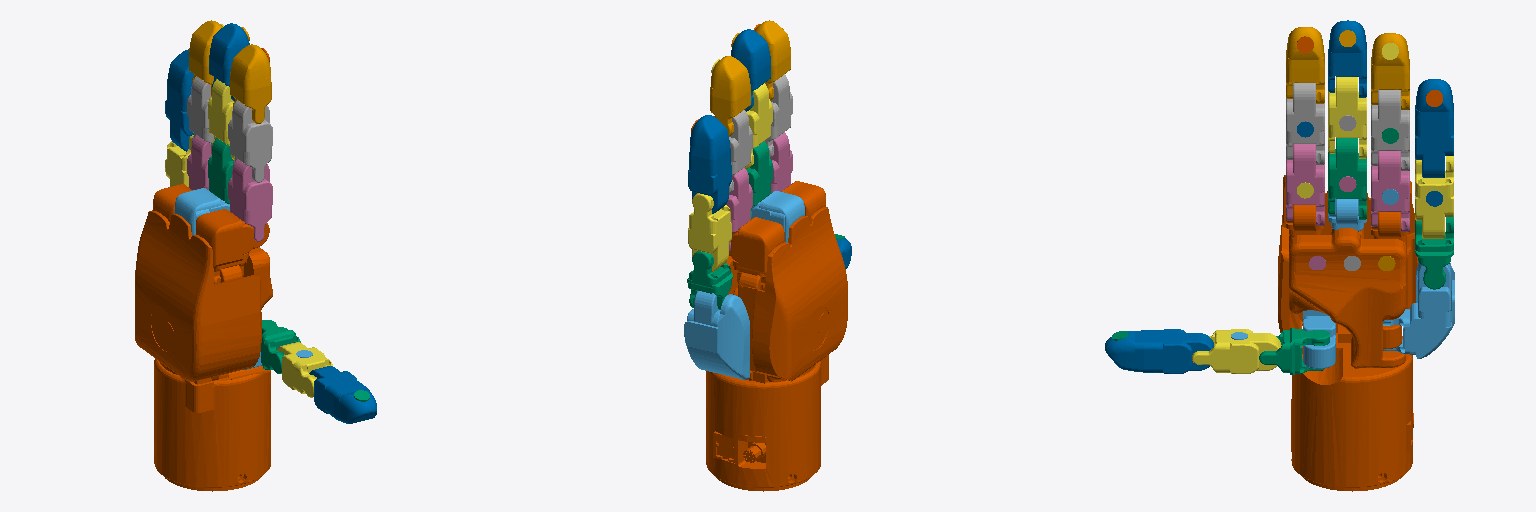
--- What the picture shows (computed from the rendered views, not written in the file) ---
The picture shows the robot from 3 angles, left to right: view 1: azimuth 30°, elevation 25°; view 2: azimuth 150°, elevation 25°; view 3: azimuth 270°, elevation 25°; orthographic projection.
Robot: tesollo_left — 38 links, 37 joints (20 revolute, 17 fixed); root link tesollo_left_ll_dg_mount; default pose: all joints at 0.
Links seen in each view (by area): view 1: tesollo_left_ll_dg_mount, tesollo_left_ll_dg_2_1, tesollo_left_ll_dg_1_4, tesollo_left_ll_dg_2_3, tesollo_left_ll_dg_2_4, tesollo_left_ll_dg_2_2, tesollo_left_ll_dg_5_4, tesollo_left_ll_dg_1_3, tesollo_left_ll_dg_3_4, tesollo_left_ll_dg_4_4, tesollo_left_ll_dg_3_1, tesollo_left_ll_dg_1_2 (+6 smaller); view 2: tesollo_left_ll_dg_mount, tesollo_left_ll_dg_5_1, tesollo_left_ll_dg_5_4, tesollo_left_ll_dg_4_1, tesollo_left_ll_dg_5_3, tesollo_left_ll_dg_4_4, tesollo_left_ll_dg_3_4, tesollo_left_ll_dg_5_2, tesollo_left_ll_dg_3_1, tesollo_left_ll_dg_2_4, tesollo_left_ll_dg_2_3, tesollo_left_ll_dg_3_3 (+5 smaller); view 3: tesollo_left_ll_dg_mount, tesollo_left_ll_dg_1_4, tesollo_left_ll_dg_5_1, tesollo_left_ll_dg_5_4, tesollo_left_ll_dg_1_3, tesollo_left_ll_dg_2_3, tesollo_left_ll_dg_2_2, tesollo_left_ll_dg_4_3, tesollo_left_ll_dg_4_2, tesollo_left_ll_dg_5_3, tesollo_left_ll_dg_3_2, tesollo_left_ll_dg_3_3 (+9 smaller).
Link boxes in pixels (x1,y1,x2,y2): tesollo_left_ll_dg_mount: [135, 210, 272, 491]; tesollo_left_ll_dg_2_1: [196, 209, 269, 283]; tesollo_left_ll_dg_1_4: [309, 366, 376, 423]; tesollo_left_ll_dg_2_3: [228, 100, 272, 182]; tesollo_left_ll_dg_2_4: [230, 44, 271, 123]; tesollo_left_ll_dg_2_2: [228, 159, 272, 241]; tesollo_left_ll_dg_5_4: [165, 49, 193, 151]; tesollo_left_ll_dg_1_3: [277, 342, 332, 397]; tesollo_left_ll_dg_3_4: [209, 23, 249, 100]; tesollo_left_ll_dg_4_4: [189, 20, 222, 96]; tesollo_left_ll_dg_3_1: [174, 188, 229, 234]; tesollo_left_ll_dg_1_2: [261, 320, 300, 373]; tesollo_left_ll_dg_mount: [706, 207, 847, 491]; tesollo_left_ll_dg_5_1: [684, 291, 749, 379]; tesollo_left_ll_dg_5_4: [688, 115, 731, 213]; tesollo_left_ll_dg_4_1: [729, 217, 784, 290]; tesollo_left_ll_dg_5_3: [688, 193, 731, 271]; tesollo_left_ll_dg_4_4: [710, 56, 750, 135]; tesollo_left_ll_dg_3_4: [731, 29, 770, 111]; tesollo_left_ll_dg_5_2: [687, 251, 732, 309]; tesollo_left_ll_dg_3_1: [752, 191, 804, 242]; tesollo_left_ll_dg_2_4: [755, 20, 790, 99]; tesollo_left_ll_dg_2_3: [765, 74, 792, 157]; tesollo_left_ll_dg_3_3: [744, 83, 772, 168]; tesollo_left_ll_dg_mount: [1278, 191, 1418, 491]; tesollo_left_ll_dg_1_4: [1105, 329, 1213, 373]; tesollo_left_ll_dg_5_1: [1383, 262, 1454, 358]; tesollo_left_ll_dg_5_4: [1415, 79, 1453, 177]; tesollo_left_ll_dg_1_3: [1192, 329, 1281, 373]; tesollo_left_ll_dg_2_3: [1286, 82, 1324, 164]; tesollo_left_ll_dg_2_2: [1286, 143, 1324, 225]; tesollo_left_ll_dg_4_3: [1371, 89, 1409, 170]; tesollo_left_ll_dg_4_2: [1371, 150, 1409, 231]; tesollo_left_ll_dg_5_3: [1415, 156, 1453, 238]; tesollo_left_ll_dg_3_2: [1328, 138, 1366, 219]; tesollo_left_ll_dg_3_3: [1328, 77, 1366, 158].
Bounding box of the posed robot: 0.0735 × 0.2022 × 0.2911 m (x, y, z).
28 mesh visuals loaded from 28 distinct referenced files (28 OBJ).

robot.urdf — tesollo_left:
<?xml version='1.0' encoding='UTF-8'?>
<robot name="tesollo_left">
  <joint name="lj_dg_1_1" type="revolute">
    <origin xyz="-0.0162 -0.019 0.0866" rpy="0. 0. 0." />
    <parent link="tesollo_left_ll_dg_mount" />
    <child link="tesollo_left_ll_dg_1_1" />
    <axis xyz="1. 0. 0." />
    <limit lower="-0.8901179" upper="0.3839724" effort="7.5" velocity="3.1415927" />
  </joint>
  <joint name="lj_dg_1_2" type="revolute">
    <origin xyz="0.04195 0. 0. " rpy="0. 0. 0." />
    <parent link="tesollo_left_ll_dg_1_1" />
    <child link="tesollo_left_ll_dg_1_2" />
    <axis xyz="0. 0. 1." />
    <limit lower="0." upper="3.1415927" effort="7.5" velocity="3.1415927" />
  </joint>
  <joint name="lj_dg_1_3" type="revolute">
    <origin xyz="0. -0.031 0. " rpy="0. 0. 0." />
    <parent link="tesollo_left_ll_dg_1_2" />
    <child link="tesollo_left_ll_dg_1_3" />
    <axis xyz="1. 0. 0." />
    <limit lower="-1.5707963" upper="1.5707963" effort="7.5" velocity="3.1415927" />
  </joint>
  <joint name="lj_dg_1_4" type="revolute">
    <origin xyz="0. -0.0388 0. " rpy="0. 0. 0." />
    <parent link="tesollo_left_ll_dg_1_3" />
    <child link="tesollo_left_ll_dg_1_4" />
    <axis xyz="1. 0. 0." />
    <limit lower="-1.5707963" upper="1.5707963" effort="7.5" velocity="3.1415927" />
  </joint>
  <joint name="lj_dg_2_1" type="revolute">
    <origin xyz="-0.0071 -0.027 0.1399" rpy="0. 0. 0." />
    <parent link="tesollo_left_ll_dg_mount" />
    <child link="tesollo_left_ll_dg_2_1" />
    <axis xyz="1. 0. 0." />
    <limit lower="-0.6108652" upper="0.418879" effort="7.5" velocity="3.1415927" />
  </joint>
  <joint name="lj_dg_2_2" type="revolute">
    <origin xyz="0.01765 0. 0.0265 " rpy="0. 0. 0." />
    <parent link="tesollo_left_ll_dg_2_1" />
    <child link="tesollo_left_ll_dg_2_2" />
    <axis xyz="0. 1. 0." />
    <limit lower="0." upper="2.0071286" effort="7.5" velocity="3.1415927" />
  </joint>
  <joint name="lj_dg_2_3" type="revolute">
    <origin xyz="0. 0. 0.0388" rpy="0. 0. 0." />
    <parent link="tesollo_left_ll_dg_2_2" />
    <child link="tesollo_left_ll_dg_2_3" />
    <axis xyz="0. 1. 0." />
    <limit lower="-1.5707963" upper="1.5707963" effort="7.5" velocity="3.1415927" />
  </joint>
  <joint name="lj_dg_2_4" type="revolute">
    <origin xyz="0. 0. 0.0388" rpy="0. 0. 0." />
    <parent link="tesollo_left_ll_dg_2_3" />
    <child link="tesollo_left_ll_dg_2_4" />
    <axis xyz="0. 1. 0." />
    <limit lower="-1.5707963" upper="1.5707963" effort="7.5" velocity="3.1415927" />
  </joint>
  <joint name="lj_dg_3_1" type="revolute">
    <origin xyz="-0.0071 -0.0025 0.1439" rpy="0. 0. 0." />
    <parent link="tesollo_left_ll_dg_mount" />
    <child link="tesollo_left_ll_dg_3_1" />
    <axis xyz="1. 0. 0." />
    <limit lower="-0.6108652" upper="0.6108652" effort="7.5" velocity="3.1415927" />
  </joint>
  <joint name="lj_dg_3_2" type="revolute">
    <origin xyz="0.01765 0. 0.0265 " rpy="0. 0. 0." />
    <parent link="tesollo_left_ll_dg_3_1" />
    <child link="tesollo_left_ll_dg_3_2" />
    <axis xyz="0. 1. 0." />
    <limit lower="0." upper="1.9547686" effort="7.5" velocity="3.1415927" />
  </joint>
  <joint name="lj_dg_3_3" type="revolute">
    <origin xyz="0. 0. 0.0388" rpy="0. 0. 0." />
    <parent link="tesollo_left_ll_dg_3_2" />
    <child link="tesollo_left_ll_dg_3_3" />
    <axis xyz="0. 1. 0." />
    <limit lower="-1.5707963" upper="1.5707963" effort="7.5" velocity="3.1415927" />
  </joint>
  <joint name="lj_dg_3_4" type="revolute">
    <origin xyz="0. 0. 0.0388" rpy="0. 0. 0." />
    <parent link="tesollo_left_ll_dg_3_3" />
    <child link="tesollo_left_ll_dg_3_4" />
    <axis xyz="0. 1. 0." />
    <limit lower="-1.5707963" upper="1.5707963" effort="7.5" velocity="3.1415927" />
  </joint>
  <joint name="lj_dg_4_1" type="revolute">
    <origin xyz="-0.0071 0.022 0.1359" rpy="0. 0. 0." />
    <parent link="tesollo_left_ll_dg_mount" />
    <child link="tesollo_left_ll_dg_4_1" />
    <axis xyz="1. 0. 0." />
    <limit lower="-0.418879" upper="0.6108652" effort="7.5" velocity="3.1415927" />
  </joint>
  <joint name="lj_dg_4_2" type="revolute">
    <origin xyz="0.01765 0. 0.0265 " rpy="0. 0. 0." />
    <parent link="tesollo_left_ll_dg_4_1" />
    <child link="tesollo_left_ll_dg_4_2" />
    <axis xyz="0. 1. 0." />
    <limit lower="0." upper="1.9024088" effort="7.5" velocity="3.1415927" />
  </joint>
  <joint name="lj_dg_4_3" type="revolute">
    <origin xyz="0. 0. 0.0388" rpy="0. 0. 0." />
    <parent link="tesollo_left_ll_dg_4_2" />
    <child link="tesollo_left_ll_dg_4_3" />
    <axis xyz="0. 1. 0." />
    <limit lower="-1.5707963" upper="1.5707963" effort="7.5" velocity="3.1415927" />
  </joint>
  <joint name="lj_dg_4_4" type="revolute">
    <origin xyz="0. 0. 0.0388" rpy="0. 0. 0." />
    <parent link="tesollo_left_ll_dg_4_3" />
    <child link="tesollo_left_ll_dg_4_4" />
    <axis xyz="0. 1. 0." />
    <limit lower="-1.5707963" upper="1.5707963" effort="7.5" velocity="3.1415927" />
  </joint>
  <joint name="lj_dg_5_1" type="revolute">
    <origin xyz="0.0103 0.0195 0.092 " rpy="0. 0. 0." />
    <parent link="tesollo_left_ll_dg_mount" />
    <child link="tesollo_left_ll_dg_5_1" />
    <axis xyz="0. 0. 1." />
    <limit lower="-1.0471976" upper="0.0174533" effort="7.5" velocity="3.1415927" />
  </joint>
  <joint name="lj_dg_5_2" type="revolute">
    <origin xyz="0. 0.028 0.0381" rpy="0. 0. 0." />
    <parent link="tesollo_left_ll_dg_5_1" />
    <child link="tesollo_left_ll_dg_5_2" />
    <axis xyz="1. 0. 0." />
    <limit lower="-0.6108652" upper="0.418879" effort="7.5" velocity="3.1415927" />
  </joint>
  <joint name="lj_dg_5_3" type="revolute">
    <origin xyz="0. 0. 0.031" rpy="0. 0. 0." />
    <parent link="tesollo_left_ll_dg_5_2" />
    <child link="tesollo_left_ll_dg_5_3" />
    <axis xyz="0. 1. 0." />
    <limit lower="-1.5707963" upper="1.5707963" effort="7.5" velocity="3.1415927" />
  </joint>
  <joint name="lj_dg_5_4" type="revolute">
    <origin xyz="0. 0. 0.0388" rpy="0. 0. 0." />
    <parent link="tesollo_left_ll_dg_5_3" />
    <child link="tesollo_left_ll_dg_5_4" />
    <axis xyz="0. 1. 0." />
    <limit lower="-1.5707963" upper="1.5707963" effort="7.5" velocity="3.1415927" />
  </joint>
  <joint name="ll_dg_ee_joint" type="fixed">
    <origin xyz="0.023 0. 0.13" rpy="1.5707963 0. 1.5707963" />
    <parent link="tesollo_left_ll_dg_mount" />
    <child link="ll_dg_ee" />
  </joint>
  <link name="ll_dg_ee">
    <inertial>
      <origin xyz="0. 0. 0." rpy="0. 0. 0." />
      <mass value="0.001" />
      <inertia ixx="1e-6" ixy="0." ixz="0." iyy="1e-6" iyz="0." izz="1e-6" />
    </inertial>
    <visual>
      <origin xyz="0. 0. 0." rpy="0. 0. 0." />
      <geometry>
        <sphere radius="0.0001" />
      </geometry>
    </visual>
    <collision>
      <origin xyz="0. 0. 0." rpy="0. 0. 0." />
      <geometry>
        <sphere radius="0.0001" />
      </geometry>
    </collision>
  </link>
  <link name="tesollo_left_ll_dg_1_1">
    <inertial>
      <origin xyz="0.021473 0.0000031 0.0028146" rpy="0. 0. 0." />
      <mass value="0.045" />
      <inertia ixx="0.0000043" ixy="0." ixz="0.0000029" iyy="0.0000137" iyz="-0." izz="0.0000122" />
    </inertial>
    <visual>
      <origin xyz="0. 0. 0." rpy="1.5707872 0. 0. " />
      <geometry>
        <mesh filename="meshes/tesollo_left_ll_dg_1_1_visuals_ll_dg_1_1_mesh.obj" scale="1. 1. 1." />
      </geometry>
    </visual>
    <collision>
      <origin xyz="0. 0. 0." rpy="1.5707872 0. 0." />
      <geometry>
        <mesh filename="meshes/ll_dg_1_1_c_mesh.obj" scale="1. 1. 1." />
      </geometry>
    </collision>
  </link>
  <link name="tesollo_left_ll_dg_1_2">
    <inertial>
      <origin xyz="-0.0005563 -0.0155 0.0005563" rpy="0. 0. 0." />
      <mass value="0.025" />
      <inertia ixx="0.000002" ixy="-0.0000002" ixz="-0." iyy="0.0000015" iyz="-0.0000002" izz="0.000002" />
    </inertial>
    <visual>
      <origin xyz="0. 0. 0." rpy="1.5707872 0. 0. " />
      <geometry>
        <mesh filename="meshes/tesollo_left_ll_dg_1_2_visuals_ll_dg_1_2_mesh.obj" scale="1. 1. 1." />
      </geometry>
    </visual>
    <collision>
      <origin xyz="0. 0. 0." rpy="1.5707872 0. 0." />
      <geometry>
        <mesh filename="meshes/ll_dg_1_2_c_mesh.obj" scale="1. 1. 1." />
      </geometry>
    </collision>
  </link>
  <link name="tesollo_left_ll_dg_1_3">
    <inertial>
      <origin xyz="-0.000023 -0.014842 0.0000047" rpy="0. 0. 0." />
      <mass value="0.045" />
      <inertia ixx="0.000006" ixy="-0.0000004" ixz="0." iyy="0.0000025" iyz="0." izz="0.0000064" />
    </inertial>
    <visual>
      <origin xyz="0. 0. 0." rpy="1.5707872 0. 0. " />
      <geometry>
        <mesh filename="meshes/tesollo_left_ll_dg_1_3_visuals_ll_dg_1_3_mesh.obj" scale="1. 1. 1." />
      </geometry>
    </visual>
    <collision>
      <origin xyz="0. 0. 0." rpy="1.5707872 0. 0." />
      <geometry>
        <mesh filename="meshes/ll_dg_1_3_c_mesh.obj" scale="1. 1. 1." />
      </geometry>
    </collision>
  </link>
  <link name="tesollo_left_ll_dg_1_4">
    <inertial>
      <origin xyz="0.0001843 -0.0212612 0.0000518" rpy="0. 0. 0." />
      <mass value="0.05" />
      <inertia ixx="0.0000125" ixy="-0.0000002" ixz="0." iyy="0.0000033" iyz="0.0000001" izz="0.0000129" />
    </inertial>
    <visual>
      <origin xyz="0. 0. 0." rpy="1.5707872 0. 0. " />
      <geometry>
        <mesh filename="meshes/tesollo_left_ll_dg_1_4_visuals_ll_dg_1_4_mesh.obj" scale="1. 1. 1." />
      </geometry>
    </visual>
    <visual>
      <origin xyz="0. -0.0363 0. " rpy="1.5707872 0. 0. " />
      <geometry>
        <mesh filename="meshes/tesollo_left_ll_dg_1_4_visuals_ll_dg_1_tip_mesh.obj" scale="1. 1. 1." />
      </geometry>
    </visual>
    <collision>
      <origin xyz="0. 0. 0." rpy="1.5707872 0. 0." />
      <geometry>
        <mesh filename="meshes/ll_dg_1_4_c_mesh.obj" scale="1. 1. 1." />
      </geometry>
    </collision>
    <collision>
      <origin xyz="0. -0.0363 0. " rpy="1.5707872 0. 0." />
      <geometry>
        <mesh filename="meshes/ll_dg_1_tip_c_mesh.obj" scale="1. 1. 1." />
      </geometry>
    </collision>
  </link>
  <link name="tesollo_left_ll_dg_2_1">
    <inertial>
      <origin xyz="0.0010606 -0.0005857 0.023499 " rpy="0. 0. 0." />
      <mass value="0.045" />
      <inertia ixx="0.0000066" ixy="0.0000002" ixz="-0.0000012" iyy="0.0000095" iyz="-0." izz="0.0000071" />
    </inertial>
    <visual>
      <origin xyz="0. 0. 0." rpy="1.5707872 0. 0. " />
      <geometry>
        <mesh filename="meshes/tesollo_left_ll_dg_2_1_visuals_ll_dg_2_1_mesh.obj" scale="1. 1. 1." />
      </geometry>
    </visual>
    <collision>
      <origin xyz="0. 0. 0." rpy="1.5707872 0. 0." />
      <geometry>
        <mesh filename="meshes/ll_dg_2_1_c_mesh.obj" scale="1. 1. 1." />
      </geometry>
    </collision>
  </link>
  <link name="tesollo_left_ll_dg_2_2">
    <inertial>
      <origin xyz="-0.0000047 0.000023 0.023958 " rpy="0. 0. 0." />
      <mass value="0.045" />
      <inertia ixx="0.0000064" ixy="0." ixz="-0." iyy="0.000006" iyz="0.0000004" izz="0.0000025" />
    </inertial>
    <visual>
      <origin xyz="0. 0. 0." rpy="1.5707872 0. 0. " />
      <geometry>
        <mesh filename="meshes/tesollo_left_ll_dg_2_2_visuals_ll_dg_2_2_mesh.obj" scale="1. 1. 1." />
      </geometry>
    </visual>
    <collision>
      <origin xyz="0. 0. 0." rpy="1.5707872 0. 0." />
      <geometry>
        <mesh filename="meshes/ll_dg_2_2_c_mesh.obj" scale="1. 1. 1." />
      </geometry>
    </collision>
  </link>
  <link name="tesollo_left_ll_dg_2_3">
    <inertial>
      <origin xyz="-0.0000047 0.000023 0.023958 " rpy="0. 0. 0." />
      <mass value="0.045" />
      <inertia ixx="0.0000064" ixy="0." ixz="-0." iyy="0.000006" iyz="0.0000004" izz="0.0000025" />
    </inertial>
    <visual>
      <origin xyz="0. 0. 0." rpy="1.5707872 0. 0. " />
      <geometry>
        <mesh filename="meshes/tesollo_left_ll_dg_2_3_visuals_ll_dg_2_3_mesh.obj" scale="1. 1. 1." />
      </geometry>
    </visual>
    <collision>
      <origin xyz="0. 0. 0." rpy="1.5707872 0. 0." />
      <geometry>
        <mesh filename="meshes/ll_dg_2_3_c_mesh.obj" scale="1. 1. 1." />
      </geometry>
    </collision>
  </link>
  <link name="tesollo_left_ll_dg_2_4">
    <inertial>
      <origin xyz="0.0000443 0.0003587 0.0203112" rpy="0. 0. 0." />
      <mass value="0.03" />
      <inertia ixx="0.0000041" ixy="0." ixz="-0.0000001" iyy="0.0000036" iyz="0.0000002" izz="0.000002" />
    </inertial>
    <visual>
      <origin xyz="0. 0. 0." rpy="1.5707872 0. 0. " />
      <geometry>
        <mesh filename="meshes/tesollo_left_ll_dg_2_4_visuals_ll_dg_2_4_mesh.obj" scale="1. 1. 1." />
      </geometry>
    </visual>
    <visual>
      <origin xyz="0. 0. 0.0255" rpy="1.5707872 0. 0. " />
      <geometry>
        <mesh filename="meshes/tesollo_left_ll_dg_2_4_visuals_ll_dg_2_tip_mesh.obj" scale="1. 1. 1." />
      </geometry>
    </visual>
    <collision>
      <origin xyz="0. 0. 0." rpy="1.5707872 0. 0." />
      <geometry>
        <mesh filename="meshes/ll_dg_2_4_c_mesh.obj" scale="1. 1. 1." />
      </geometry>
    </collision>
    <collision>
      <origin xyz="0. 0. 0.0255" rpy="1.5707872 0. 0." />
      <geometry>
        <mesh filename="meshes/ll_dg_2_tip_c_mesh.obj" scale="1. 1. 1." />
      </geometry>
    </collision>
  </link>
  <link name="tesollo_left_ll_dg_3_1">
    <inertial>
      <origin xyz="0.0012558 -0.000177 0.023374 " rpy="0. 0. 0." />
      <mass value="0.045" />
      <inertia ixx="0.0000062" ixy="0.0000001" ixz="-0.0000012" iyy="0.0000093" iyz="0." izz="0.0000068" />
    </inertial>
    <visual>
      <origin xyz="0. 0. 0." rpy="1.5707872 0. 0. " />
      <geometry>
        <mesh filename="meshes/tesollo_left_ll_dg_3_1_visuals_ll_dg_3_1_mesh.obj" scale="1. 1. 1." />
      </geometry>
    </visual>
    <collision>
      <origin xyz="0. 0. 0." rpy="1.5707872 0. 0." />
      <geometry>
        <mesh filename="meshes/ll_dg_3_1_c_mesh.obj" scale="1. 1. 1." />
      </geometry>
    </collision>
  </link>
  <link name="tesollo_left_ll_dg_3_2">
    <inertial>
      <origin xyz="-0.0000047 0.000023 0.023958 " rpy="0. 0. 0." />
      <mass value="0.045" />
      <inertia ixx="0.0000064" ixy="0." ixz="-0." iyy="0.000006" iyz="0.0000004" izz="0.0000025" />
    </inertial>
    <visual>
      <origin xyz="0. 0. 0." rpy="1.5707872 0. 0. " />
      <geometry>
        <mesh filename="meshes/tesollo_left_ll_dg_3_2_visuals_ll_dg_3_2_mesh.obj" scale="1. 1. 1." />
      </geometry>
    </visual>
    <collision>
      <origin xyz="0. 0. 0." rpy="1.5707872 0. 0." />
      <geometry>
        <mesh filename="meshes/ll_dg_3_2_c_mesh.obj" scale="1. 1. 1." />
      </geometry>
    </collision>
  </link>
  <link name="tesollo_left_ll_dg_3_3">
    <inertial>
      <origin xyz="-0.0000047 0.000023 0.023958 " rpy="0. 0. 0." />
      <mass value="0.045" />
      <inertia ixx="0.0000064" ixy="0." ixz="-0." iyy="0.000006" iyz="0.0000004" izz="0.0000025" />
    </inertial>
    <visual>
      <origin xyz="0. 0. 0." rpy="1.5707872 0. 0. " />
      <geometry>
        <mesh filename="meshes/tesollo_left_ll_dg_3_3_visuals_ll_dg_3_3_mesh.obj" scale="1. 1. 1." />
      </geometry>
    </visual>
    <collision>
      <origin xyz="0. 0. 0." rpy="1.5707872 0. 0." />
      <geometry>
        <mesh filename="meshes/ll_dg_3_3_c_mesh.obj" scale="1. 1. 1." />
      </geometry>
    </collision>
  </link>
  <link name="tesollo_left_ll_dg_3_4">
    <inertial>
      <origin xyz="0.0000443 0.0003587 0.0203112" rpy="0. 0. 0." />
      <mass value="0.03" />
      <inertia ixx="0.0000041" ixy="0." ixz="-0.0000001" iyy="0.0000036" iyz="0.0000002" izz="0.000002" />
    </inertial>
    <visual>
      <origin xyz="0. 0. 0." rpy="1.5707872 0. 0. " />
      <geometry>
        <mesh filename="meshes/tesollo_left_ll_dg_3_4_visuals_ll_dg_3_4_mesh.obj" scale="1. 1. 1." />
      </geometry>
    </visual>
    <visual>
      <origin xyz="0. 0. 0.0255" rpy="1.5707872 0. 0. " />
      <geometry>
        <mesh filename="meshes/tesollo_left_ll_dg_3_4_visuals_ll_dg_3_tip_mesh.obj" scale="1. 1. 1." />
      </geometry>
    </visual>
    <collision>
      <origin xyz="0. 0. 0." rpy="1.5707872 0. 0." />
      <geometry>
        <mesh filename="meshes/ll_dg_3_4_c_mesh.obj" scale="1. 1. 1." />
      </geometry>
    </collision>
    <collision>
      <origin xyz="0. 0. 0.0255" rpy="1.5707872 0. 0." />
      <geometry>
        <mesh filename="meshes/ll_dg_3_tip_c_mesh.obj" scale="1. 1. 1." />
      </geometry>
    </collision>
  </link>
  <link name="tesollo_left_ll_dg_4_1">
    <inertial>
      <origin xyz="0.001061 0.0002442 0.023499 " rpy="0. 0. 0." />
      <mass value="0.045" />
      <inertia ixx="0.0000066" ixy="0.0000002" ixz="-0.0000012" iyy="0.0000095" iyz="0.0000001" izz="0.0000071" />
    </inertial>
    <visual>
      <origin xyz="0. 0. 0." rpy="1.5707872 0. 0. " />
      <geometry>
        <mesh filename="meshes/tesollo_left_ll_dg_4_1_visuals_ll_dg_4_1_mesh.obj" scale="1. 1. 1." />
      </geometry>
    </visual>
    <collision>
      <origin xyz="0. 0. 0." rpy="1.5707872 0. 0." />
      <geometry>
        <mesh filename="meshes/ll_dg_4_1_c_mesh.obj" scale="1. 1. 1." />
      </geometry>
    </collision>
  </link>
  <link name="tesollo_left_ll_dg_4_2">
    <inertial>
      <origin xyz="-0.0000047 0.000023 0.023958 " rpy="0. 0. 0." />
      <mass value="0.045" />
      <inertia ixx="0.0000064" ixy="0." ixz="-0." iyy="0.000006" iyz="0.0000004" izz="0.0000025" />
    </inertial>
    <visual>
      <origin xyz="0. 0. 0." rpy="1.5707872 0. 0. " />
      <geometry>
        <mesh filename="meshes/tesollo_left_ll_dg_4_2_visuals_ll_dg_4_2_mesh.obj" scale="1. 1. 1." />
      </geometry>
    </visual>
    <collision>
      <origin xyz="0. 0. 0." rpy="1.5707872 0. 0." />
      <geometry>
        <mesh filename="meshes/ll_dg_4_2_c_mesh.obj" scale="1. 1. 1." />
      </geometry>
    </collision>
  </link>
  <link name="tesollo_left_ll_dg_4_3">
    <inertial>
      <origin xyz="-0.0000047 0.000023 0.023958 " rpy="0. 0. 0." />
      <mass value="0.045" />
      <inertia ixx="0.0000064" ixy="0." ixz="-0." iyy="0.000006" iyz="0.0000004" izz="0.0000025" />
    </inertial>
    <visual>
      <origin xyz="0. 0. 0." rpy="1.5707872 0. 0. " />
      <geometry>
        <mesh filename="meshes/tesollo_left_ll_dg_4_3_visuals_ll_dg_4_3_mesh.obj" scale="1. 1. 1." />
      </geometry>
    </visual>
    <collision>
      <origin xyz="0. 0. 0." rpy="1.5707872 0. 0." />
      <geometry>
        <mesh filename="meshes/ll_dg_4_3_c_mesh.obj" scale="1. 1. 1." />
      </geometry>
    </collision>
  </link>
  <link name="tesollo_left_ll_dg_4_4">
    <inertial>
      <origin xyz="0.0000443 0.0003587 0.0203112" rpy="0. 0. 0." />
      <mass value="0.03" />
      <inertia ixx="0.0000041" ixy="0." ixz="-0.0000001" iyy="0.0000036" iyz="0.0000002" izz="0.000002" />
    </inertial>
    <visual>
      <origin xyz="0. 0. 0." rpy="1.5707872 0. 0. " />
      <geometry>
        <mesh filename="meshes/tesollo_left_ll_dg_4_4_visuals_ll_dg_4_4_mesh.obj" scale="1. 1. 1." />
      </geometry>
    </visual>
    <visual>
      <origin xyz="0. 0. 0.0255" rpy="1.5707872 0. 0. " />
      <geometry>
        <mesh filename="meshes/tesollo_left_ll_dg_4_4_visuals_ll_dg_4_tip_mesh.obj" scale="1. 1. 1." />
      </geometry>
    </visual>
    <collision>
      <origin xyz="0. 0. 0." rpy="1.5707872 0. 0." />
      <geometry>
        <mesh filename="meshes/ll_dg_4_4_c_mesh.obj" scale="1. 1. 1." />
      </geometry>
    </collision>
    <collision>
      <origin xyz="0. 0. 0.0255" rpy="1.5707872 0. 0." />
      <geometry>
        <mesh filename="meshes/ll_dg_4_tip_c_mesh.obj" scale="1. 1. 1." />
      </geometry>
    </collision>
  </link>
  <link name="tesollo_left_ll_dg_5_1">
    <inertial>
      <origin xyz="-0.0045287 0.025016 0.014025 " rpy="0. 0. 0." />
      <mass value="0.055" />
      <inertia ixx="0.0000236" ixy="-0.0000002" ixz="0.0000026" iyy="0.0000237" iyz="-0.0000045" izz="0.0000113" />
    </inertial>
    <visual>
      <origin xyz="0. 0. 0." rpy="1.5707872 0. 0. " />
      <geometry>
        <mesh filename="meshes/tesollo_left_ll_dg_5_1_visuals_ll_dg_5_1_mesh.obj" scale="1. 1. 1." />
      </geometry>
    </visual>
    <collision>
      <origin xyz="0. 0. 0." rpy="1.5707872 0. 0." />
      <geometry>
        <mesh filename="meshes/ll_dg_5_1_c_mesh.obj" scale="1. 1. 1." />
      </geometry>
    </collision>
  </link>
  <link name="tesollo_left_ll_dg_5_2">
    <inertial>
      <origin xyz="0.0005563 0.0005563 0.0155 " rpy="0. 0. 0." />
      <mass value="0.025" />
      <inertia ixx="0.000002" ixy="0." ixz="0.0000002" iyy="0.000002" iyz="-0.0000002" izz="0.0000015" />
    </inertial>
    <visual>
      <origin xyz="0. 0. 0." rpy="1.5707872 0. 0. " />
      <geometry>
        <mesh filename="meshes/tesollo_left_ll_dg_5_2_visuals_ll_dg_5_2_mesh.obj" scale="1. 1. 1." />
      </geometry>
    </visual>
    <collision>
      <origin xyz="0. 0. 0." rpy="1.5707872 0. 0." />
      <geometry>
        <mesh filename="meshes/ll_dg_5_2_c_mesh.obj" scale="1. 1. 1." />
      </geometry>
    </collision>
  </link>
  <link name="tesollo_left_ll_dg_5_3">
    <inertial>
      <origin xyz="0.0000047 0.000023 0.014842 " rpy="0. 0. 0." />
      <mass value="0.045" />
      <inertia ixx="0.0000064" ixy="-0." ixz="-0.0000001" iyy="0.000006" iyz="-0.0000004" izz="0.0000025" />
    </inertial>
    <visual>
      <origin xyz="0. 0. 0." rpy="1.5707872 0. 0. " />
      <geometry>
        <mesh filename="meshes/tesollo_left_ll_dg_5_3_visuals_ll_dg_5_3_mesh.obj" scale="1. 1. 1." />
      </geometry>
    </visual>
    <collision>
      <origin xyz="0. 0. 0." rpy="1.5707872 0. 0." />
      <geometry>
        <mesh filename="meshes/ll_dg_5_3_c_mesh.obj" scale="1. 1. 1." />
      </geometry>
    </collision>
  </link>
  <link name="tesollo_left_ll_dg_5_4">
    <inertial>
      <origin xyz="0.0000518 -0.0001843 0.0212612" rpy="0. 0. 0." />
      <mass value="0.05" />
      <inertia ixx="0.0000129" ixy="-0." ixz="-0.0000001" iyy="0.0000125" iyz="-0.0000002" izz="0.0000033" />
    </inertial>
    <visual>
      <origin xyz="0. 0. 0." rpy="1.5707872 0. 0. " />
      <geometry>
        <mesh filename="meshes/tesollo_left_ll_dg_5_4_visuals_ll_dg_5_4_mesh.obj" scale="1. 1. 1." />
      </geometry>
    </visual>
    <visual>
      <origin xyz="0. 0. 0.0363" rpy="1.5707872 0. 0. " />
      <geometry>
        <mesh filename="meshes/tesollo_left_ll_dg_5_4_visuals_ll_dg_5_tip_mesh.obj" scale="1. 1. 1." />
      </geometry>
    </visual>
    <collision>
      <origin xyz="0. 0. 0." rpy="1.5707872 0. 0." />
      <geometry>
        <mesh filename="meshes/ll_dg_5_4_c_mesh.obj" scale="1. 1. 1." />
      </geometry>
    </collision>
    <collision>
      <origin xyz="0. 0. 0.0363" rpy="1.5707872 0. 0." />
      <geometry>
        <mesh filename="meshes/ll_dg_5_tip_c_mesh.obj" scale="1. 1. 1." />
      </geometry>
    </collision>
  </link>
  <link name="tesollo_left_ll_dg_mount">
    <inertial>
      <origin xyz="-0.0039993 -0.0006647 0.0695974" rpy="0. 0. 0." />
      <mass value="0.85" />
      <inertia ixx="0.0023165" ixy="-0.0000139" ixz="0.0001302" iyy="0.0022258" iyz="0.0000629" izz="0.0009267" />
    </inertial>
    <visual>
      <origin xyz="0. 0. 0." rpy="1.5707872 0. 0. " />
      <geometry>
        <mesh filename="meshes/tesollo_left_ll_dg_mount_visuals_ll_dg_mount_mesh.obj" scale="1. 1. 1." />
      </geometry>
    </visual>
    <visual>
      <origin xyz="0. 0. 0.004" rpy="1.5707872 0. 0. " />
      <geometry>
        <mesh filename="meshes/tesollo_left_ll_dg_mount_visuals_ll_dg_base_mesh.obj" scale="1. 1. 1." />
      </geometry>
    </visual>
    <visual>
      <origin xyz="0. 0. 0.0738" rpy="1.5707872 0. 0. " />
      <geometry>
        <mesh filename="meshes/tesollo_left_ll_dg_mount_visuals_ll_dg_palm_mesh.obj" scale="1. 1. 1." />
      </geometry>
    </visual>
    <collision>
      <origin xyz="0. 0. 0." rpy="1.5707872 0. 0." />
      <geometry>
        <mesh filename="meshes/ll_dg_mount_c_mesh.obj" scale="1. 1. 1." />
      </geometry>
    </collision>
    <collision>
      <origin xyz="0. 0. 0.004" rpy="1.5707872 0. 0." />
      <geometry>
        <mesh filename="meshes/ll_dg_base_c_mesh.obj" scale="1. 1. 1." />
      </geometry>
    </collision>
    <collision>
      <origin xyz="0. 0. 0.0738" rpy="1.5707872 0. 0." />
      <geometry>
        <mesh filename="meshes/ll_dg_palm_c_mesh.obj" scale="1. 1. 1." />
      </geometry>
    </collision>
  </link>
  
<!-- Palm Sensor Links -->
  <joint name="tesollo_left_palm_sensor_joint1" type="fixed">
    <origin xyz="0.02 -0.02 0.14" rpy="0 1.5708 0" />
    <parent link="tesollo_left_ll_dg_mount" />
    <child link="tesollo_left_palm_sensor_link1" />
  </joint>
  <link name="tesollo_left_palm_sensor_link1">
    <inertial>
      <mass value="0.001"/>
      <inertia ixx="0.00001" ixy="0" ixz="0" iyy="0.00001" iyz="0" izz="0.00001"/>
    </inertial>
    <visual>
      <geometry>
        <cylinder radius="0.005" length="0.001" />
      </geometry>
    </visual>
    <collision>
      <geometry>
        <cylinder radius="0.005" length="0.001" />
      </geometry>
    </collision>
  </link>

  <joint name="tesollo_left_palm_sensor_joint2" type="fixed">
    <origin xyz="0.02 0.0 0.14" rpy="0 1.5708 0" />
    <parent link="tesollo_left_ll_dg_mount" />
    <child link="tesollo_left_palm_sensor_link2" />
  </joint>
  <link name="tesollo_left_palm_sensor_link2">
    <inertial>
      <mass value="0.001"/>
      <inertia ixx="0.00001" ixy="0" ixz="0" iyy="0.00001" iyz="0" izz="0.00001"/>
    </inertial>
    <visual>
      <geometry>
        <cylinder radius="0.005" length="0.001" />
      </geometry>
    </visual>
    <collision>
      <geometry>
        <cylinder radius="0.005" length="0.001" />
      </geometry>
    </collision>
  </link>

  <joint name="tesollo_left_palm_sensor_joint3" type="fixed">
    <origin xyz="0.02 0.02 0.14" rpy="0 1.5708 0" />
    <parent link="tesollo_left_ll_dg_mount" />
    <child link="tesollo_left_palm_sensor_link3" />
  </joint>
  <link name="tesollo_left_palm_sensor_link3">
    <inertial>
      <mass value="0.001"/>
      <inertia ixx="0.00001" ixy="0" ixz="0" iyy="0.00001" iyz="0" izz="0.00001"/>
    </inertial>
    <visual>
      <geometry>
        <cylinder radius="0.005" length="0.001" />
      </geometry>
    </visual>
    <collision>
      <geometry>
        <cylinder radius="0.005" length="0.001" />
      </geometry>
    </collision>
  </link>

  <!-- Finger 1 Sensor Links -->
  <joint name="tesollo_left_finger_1_seg3_sensor_joint" type="fixed">
    <origin xyz="0 -0.015 0.0095" rpy="0 0 0" />
    <parent link="tesollo_left_ll_dg_1_3" />
    <child link="tesollo_left_finger_1_seg3_sensor_link" />
  </joint>
  <link name="tesollo_left_finger_1_seg3_sensor_link">
    <inertial>
      <mass value="0.001"/>
      <inertia ixx="0.00001" ixy="0" ixz="0" iyy="0.00001" iyz="0" izz="0.00001"/>
    </inertial>
    <visual>
      <geometry>
        <cylinder radius="0.005" length="0.001" />
      </geometry>
    </visual>
    <collision>
      <geometry>
        <cylinder radius="0.005" length="0.001" />
      </geometry>
    </collision>
  </link>
  
  <joint name="tesollo_left_finger_1_tip_sensor_joint" type="fixed">
    <origin xyz="0 -0.045 0.01" rpy="0.261799 0 0" />
    <parent link="tesollo_left_ll_dg_1_4" />
    <child link="tesollo_left_finger_1_tip_sensor_link" />
  </joint>
  <link name="tesollo_left_finger_1_tip_sensor_link">
    <inertial>
      <mass value="0.001"/>
      <inertia ixx="0.00001" ixy="0" ixz="0" iyy="0.00001" iyz="0" izz="0.00001"/>
    </inertial>
    <visual>
      <geometry>
        <cylinder radius="0.005" length="0.001" />
      </geometry>
    </visual>
    <collision>
      <geometry>
        <cylinder radius="0.005" length="0.001" />
      </geometry>
    </collision>
  </link>

  <!-- Finger 2 Sensor Links -->
  <joint name="tesollo_left_finger_2_seg2_sensor_joint" type="fixed">
    <origin xyz="0.0095 0 0.02" rpy="0 1.5708 0" />
    <parent link="tesollo_left_ll_dg_2_2" />
    <child link="tesollo_left_finger_2_seg2_sensor_link" />
  </joint>
  <link name="tesollo_left_finger_2_seg2_sensor_link">
    <inertial>
      <mass value="0.001"/>
      <inertia ixx="0.00001" ixy="0" ixz="0" iyy="0.00001" iyz="0" izz="0.00001"/>
    </inertial>
    <visual>
      <geometry>
        <cylinder radius="0.005" length="0.001" />
      </geometry>
    </visual>
    <collision>
      <geometry>
        <cylinder radius="0.005" length="0.001" />
      </geometry>
    </collision>
  </link>

  <joint name="tesollo_left_finger_2_seg3_sensor_joint" type="fixed">
    <origin xyz="0.0095 0 0.02" rpy="0 1.5708 0" />
    <parent link="tesollo_left_ll_dg_2_3" />
    <child link="tesollo_left_finger_2_seg3_sensor_link" />
  </joint>
  <link name="tesollo_left_finger_2_seg3_sensor_link">
    <inertial>
      <mass value="0.001"/>
      <inertia ixx="0.00001" ixy="0" ixz="0" iyy="0.00001" iyz="0" izz="0.00001"/>
    </inertial>
    <visual>
      <geometry>
        <cylinder radius="0.005" length="0.001" />
      </geometry>
    </visual>
    <collision>
      <geometry>
        <cylinder radius="0.005" length="0.001" />
      </geometry>
    </collision>
  </link>

  <joint name="tesollo_left_finger_2_tip_sensor_joint" type="fixed">
    <origin xyz="0.01 0 0.035" rpy="0 1.3089969389957472 0" />
    <parent link="tesollo_left_ll_dg_2_4" />
    <child link="tesollo_left_finger_2_tip_sensor_link" />
  </joint>
  <link name="tesollo_left_finger_2_tip_sensor_link">
    <inertial>
      <mass value="0.001"/>
      <inertia ixx="0.00001" ixy="0" ixz="0" iyy="0.00001" iyz="0" izz="0.00001"/>
    </inertial>
    <visual>
      <geometry>
        <cylinder radius="0.005" length="0.001" />
      </geometry>
    </visual>
    <collision>
      <geometry>
        <cylinder radius="0.005" length="0.001" />
      </geometry>
    </collision>
  </link>

  <!-- Finger 3 Sensor Links -->
  <joint name="tesollo_left_finger_3_seg2_sensor_joint" type="fixed">
    <origin xyz="0.0095 0 0.02" rpy="0 1.5708 0" />
    <parent link="tesollo_left_ll_dg_3_2" />
    <child link="tesollo_left_finger_3_seg2_sensor_link" />
  </joint>
  <link name="tesollo_left_finger_3_seg2_sensor_link">
    <inertial>
      <mass value="0.001"/>
      <inertia ixx="0.00001" ixy="0" ixz="0" iyy="0.00001" iyz="0" izz="0.00001"/>
    </inertial>
    <visual>
      <geometry>
        <cylinder radius="0.005" length="0.001" />
      </geometry>
    </visual>
    <collision>
      <geometry>
        <cylinder radius="0.005" length="0.001" />
      </geometry>
    </collision>
  </link>

  <joint name="tesollo_left_finger_3_seg3_sensor_joint" type="fixed">
    <origin xyz="0.0095 0 0.02" rpy="0 1.5708 0" />
    <parent link="tesollo_left_ll_dg_3_3" />
    <child link="tesollo_left_finger_3_seg3_sensor_link" />
  </joint>
  <link name="tesollo_left_finger_3_seg3_sensor_link">
    <inertial>
      <mass value="0.001"/>
      <inertia ixx="0.00001" ixy="0" ixz="0" iyy="0.00001" iyz="0" izz="0.00001"/>
    </inertial>
    <visual>
      <geometry>
        <cylinder radius="0.005" length="0.001" />
      </geometry>
    </visual>
    <collision>
      <geometry>
        <cylinder radius="0.005" length="0.001" />
      </geometry>
    </collision>
  </link>

  <joint name="tesollo_left_finger_3_tip_sensor_joint" type="fixed">
    <origin xyz="0.01 0 0.035" rpy="0 1.3089969389957472 0" />
    <parent link="tesollo_left_ll_dg_3_4" />
    <child link="tesollo_left_finger_3_tip_sensor_link" />
  </joint>
  <link name="tesollo_left_finger_3_tip_sensor_link">
    <inertial>
      <mass value="0.001"/>
      <inertia ixx="0.00001" ixy="0" ixz="0" iyy="0.00001" iyz="0" izz="0.00001"/>
    </inertial>
    <visual>
      <geometry>
        <cylinder radius="0.005" length="0.001" />
      </geometry>
    </visual>
    <collision>
      <geometry>
        <cylinder radius="0.005" length="0.001" />
      </geometry>
    </collision>
  </link>

  <!-- Finger 4 Sensor Links -->
  <joint name="tesollo_left_finger_4_seg2_sensor_joint" type="fixed">
    <origin xyz="0.0095 0 0.02" rpy="0 1.5708 0" />
    <parent link="tesollo_left_ll_dg_4_2" />
    <child link="tesollo_left_finger_4_seg2_sensor_link" />
  </joint>
  <link name="tesollo_left_finger_4_seg2_sensor_link">
    <inertial>
      <mass value="0.001"/>
      <inertia ixx="0.00001" ixy="0" ixz="0" iyy="0.00001" iyz="0" izz="0.00001"/>
    </inertial>
    <visual>
      <geometry>
        <cylinder radius="0.005" length="0.001" />
      </geometry>
    </visual>
    <collision>
      <geometry>
        <cylinder radius="0.005" length="0.001" />
      </geometry>
    </collision>
  </link>

  <joint name="tesollo_left_finger_4_seg3_sensor_joint" type="fixed">
    <origin xyz="0.0095 0 0.02" rpy="0 1.5708 0" />
    <parent link="tesollo_left_ll_dg_4_3" />
    <child link="tesollo_left_finger_4_seg3_sensor_link" />
  </joint>
  <link name="tesollo_left_finger_4_seg3_sensor_link">
    <inertial>
      <mass value="0.001"/>
      <inertia ixx="0.00001" ixy="0" ixz="0" iyy="0.00001" iyz="0" izz="0.00001"/>
    </inertial>
    <visual>
      <geometry>
        <cylinder radius="0.005" length="0.001" />
      </geometry>
    </visual>
    <collision>
      <geometry>
        <cylinder radius="0.005" length="0.001" />
      </geometry>
    </collision>
  </link>

  <joint name="tesollo_left_finger_4_tip_sensor_joint" type="fixed">
    <origin xyz="0.01 0 0.035" rpy="0 1.3089969389957472 0" />
    <parent link="tesollo_left_ll_dg_4_4" />
    <child link="tesollo_left_finger_4_tip_sensor_link" />
  </joint>
  <link name="tesollo_left_finger_4_tip_sensor_link">
    <inertial>
      <mass value="0.001"/>
      <inertia ixx="0.00001" ixy="0" ixz="0" iyy="0.00001" iyz="0" izz="0.00001"/>
    </inertial>
    <visual>
      <geometry>
        <cylinder radius="0.005" length="0.001" />
      </geometry>
    </visual>
    <collision>
      <geometry>
        <cylinder radius="0.005" length="0.001" />
      </geometry>
    </collision>
  </link>

  <!-- Finger 5 Sensor Links -->
  <joint name="tesollo_left_finger_5_seg3_sensor_joint" type="fixed">
    <origin xyz="0.0095 0 0.02" rpy="0 1.5708 0" />
    <parent link="tesollo_left_ll_dg_5_3" />
    <child link="tesollo_left_finger_5_seg3_sensor_link" />
  </joint>
  <link name="tesollo_left_finger_5_seg3_sensor_link">
    <inertial>
      <mass value="0.001"/>
      <inertia ixx="0.00001" ixy="0" ixz="0" iyy="0.00001" iyz="0" izz="0.00001"/>
    </inertial>
    <visual>
      <geometry>
        <cylinder radius="0.005" length="0.001" />
      </geometry>
    </visual>
    <collision>
      <geometry>
        <cylinder radius="0.005" length="0.001" />
      </geometry>
    </collision>
  </link>

  <joint name="tesollo_left_finger_5_tip_sensor_joint" type="fixed">
    <origin xyz="0.01 0 0.045" rpy="0 1.3089969389957472 0" />
    <parent link="tesollo_left_ll_dg_5_4" />
    <child link="tesollo_left_finger_5_tip_sensor_link" />
  </joint>
  <link name="tesollo_left_finger_5_tip_sensor_link">
    <inertial>
      <mass value="0.001"/>
      <inertia ixx="0.00001" ixy="0" ixz="0" iyy="0.00001" iyz="0" izz="0.00001"/>
    </inertial>
    <visual>
      <geometry>
        <cylinder radius="0.005" length="0.001" />
      </geometry>
    </visual>
    <collision>
      <geometry>
        <cylinder radius="0.005" length="0.001" />
      </geometry>
    </collision>
  </link>
</robot>
